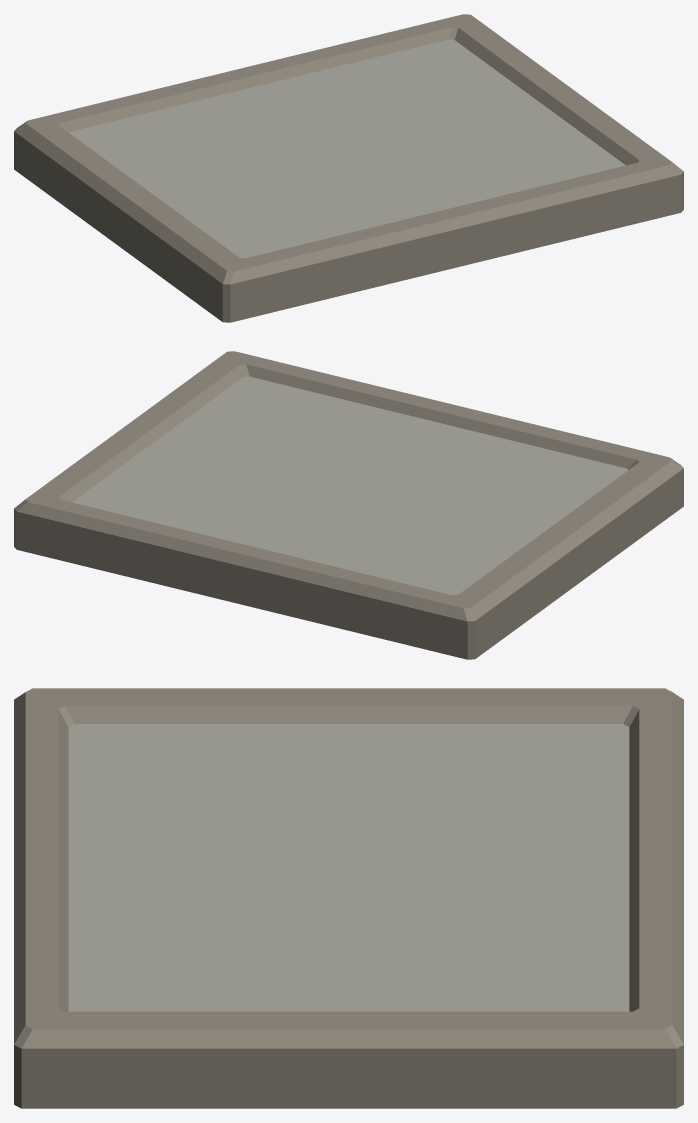
Rendered from RoofAdd_1_A.fbx.
3 renders of one model, top to bottom at view 1: azimuth 30°, elevation 25°; view 2: azimuth 150°, elevation 25°; view 3: azimuth 270°, elevation 25°, orthographic. The views are drawn at different scales.
Parts seen in each view (by area): view 1: RoofAdd_1_A; view 2: RoofAdd_1_A; view 3: RoofAdd_1_A.
Part boxes in pixels (left/top/right/bottom): RoofAdd_1_A: left=14, top=14, right=683, bottom=322; RoofAdd_1_A: left=14, top=351, right=683, bottom=659; RoofAdd_1_A: left=14, top=688, right=683, bottom=1108.
Size of the model in its own units: 126 by 12.27 by 101.
